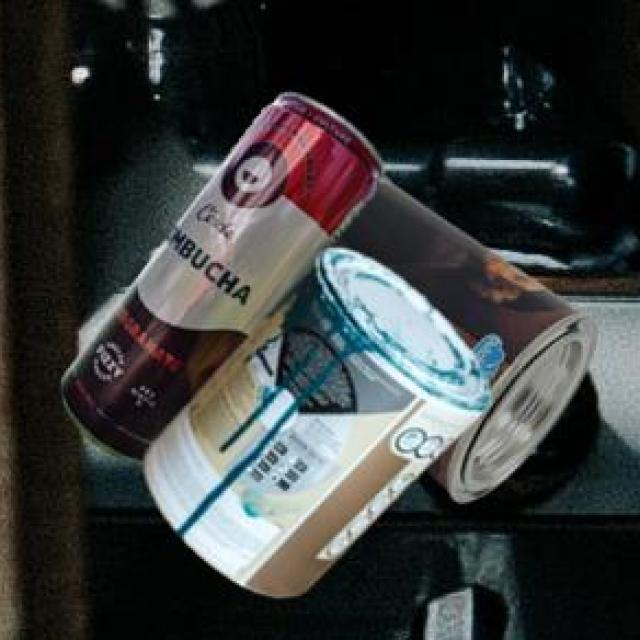logam: (139, 244, 488, 593), (58, 91, 380, 457), (328, 172, 595, 499)
